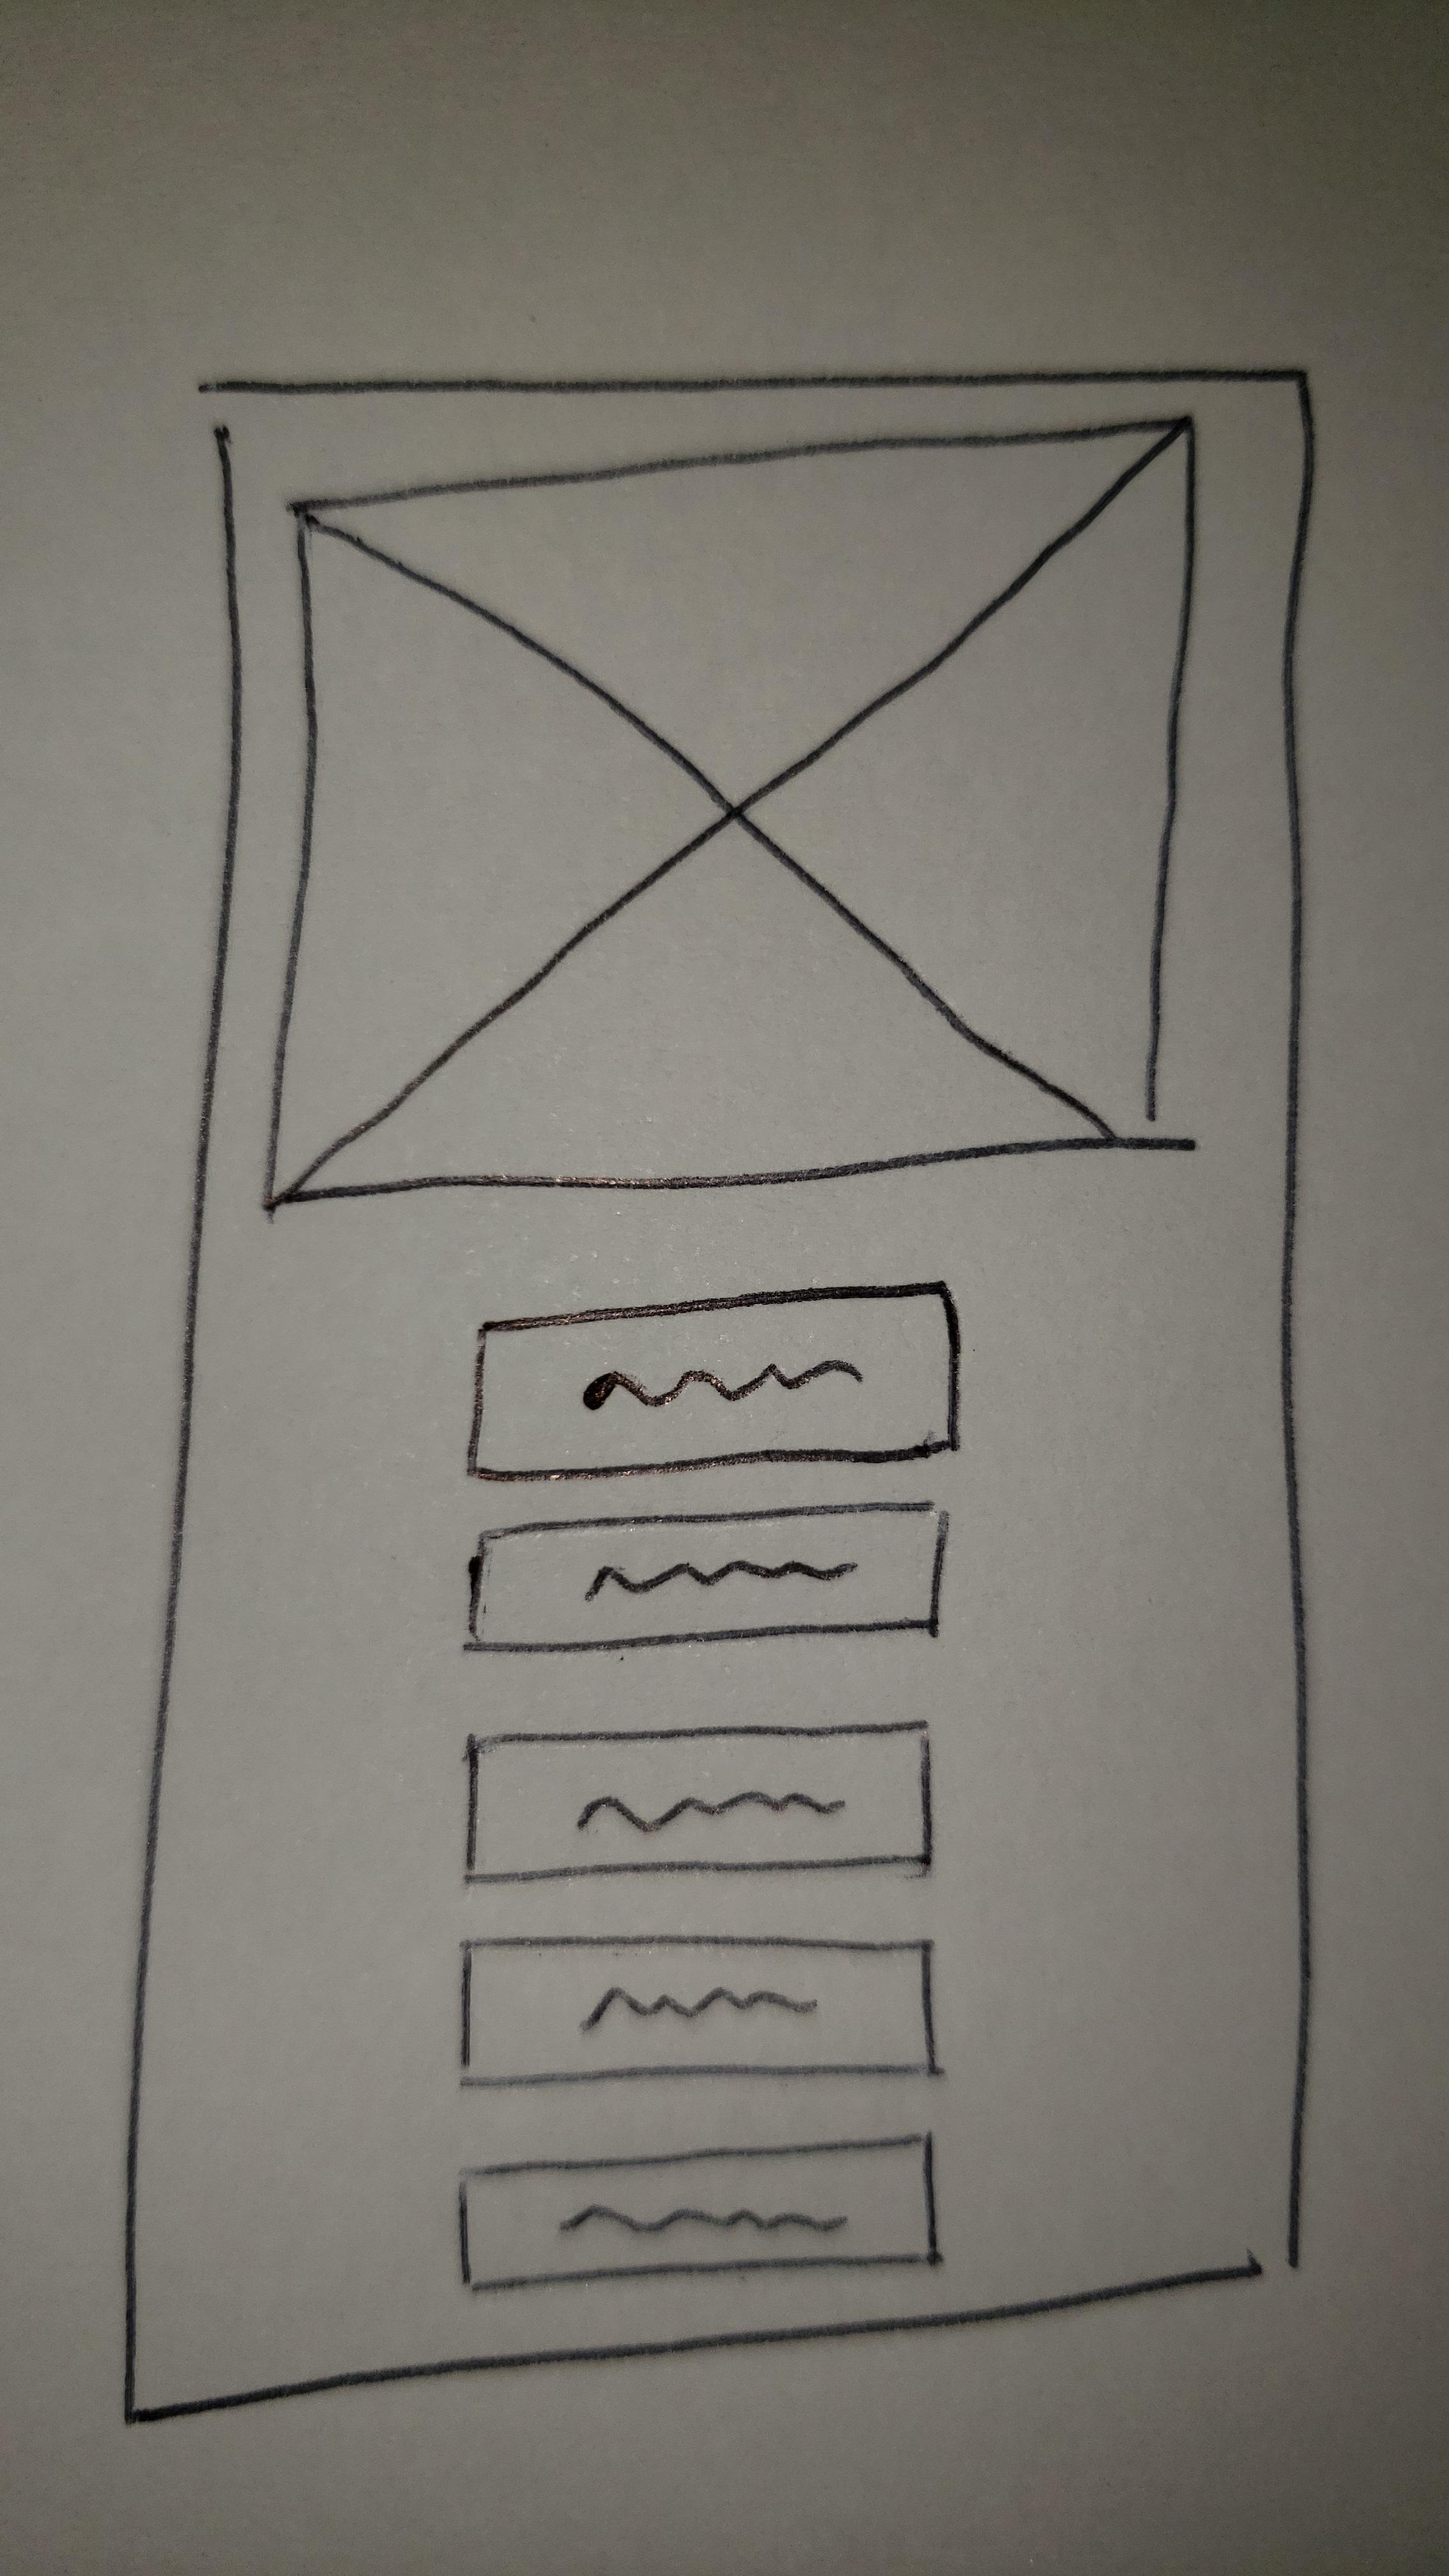Button: (467, 1281, 961, 1486), (464, 1720, 934, 1886), (455, 2135, 941, 2291), (467, 1499, 947, 1656), (462, 1937, 934, 2091)
Image: (262, 418, 1196, 1215)
Screen: (115, 366, 1315, 2424)
